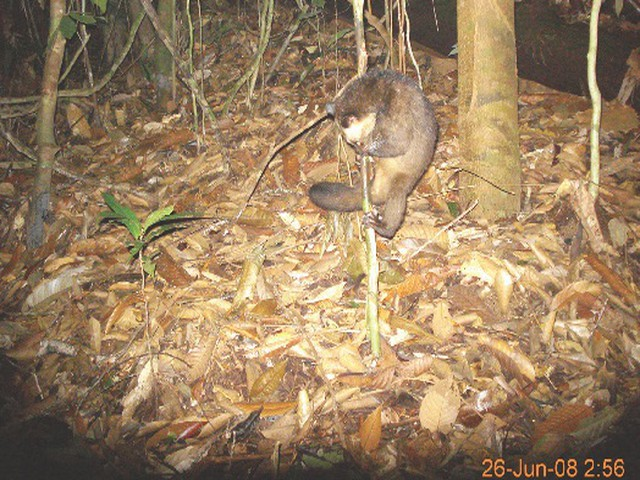civet: (308, 68, 442, 249)
